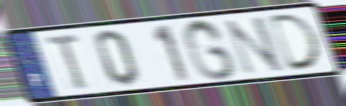0: (94, 28, 142, 89)
1: (152, 22, 193, 84)
D: (267, 11, 325, 74)
G: (180, 17, 239, 82)
N: (222, 14, 287, 77)
T: (43, 31, 92, 92)
